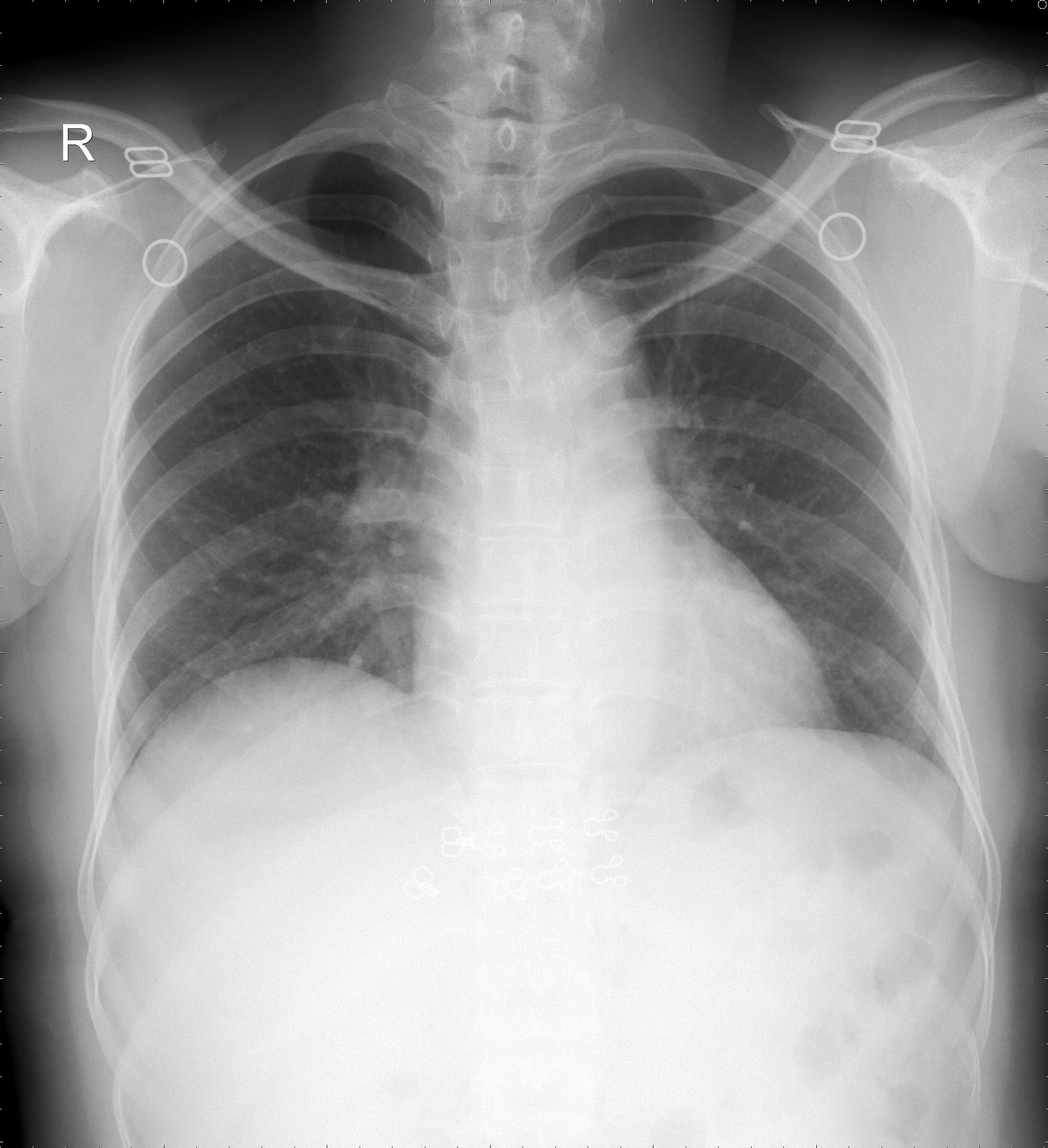Aortic enlargement: (515, 293, 650, 399)
